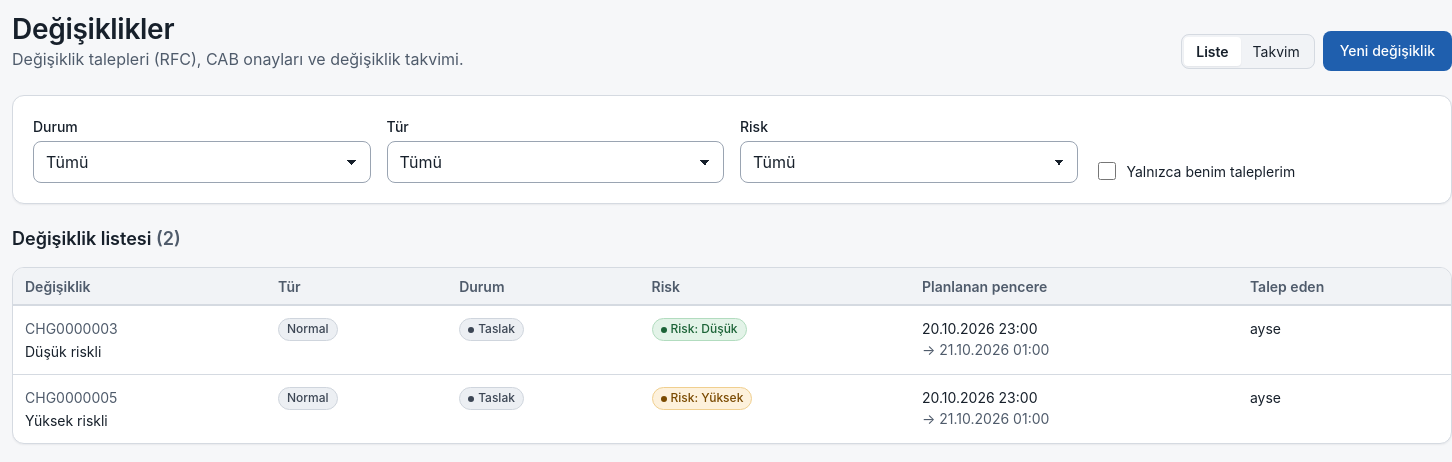
ChangeListPage — liste › durum, tür ve "benim taleplerim" sunucuya; risk istemcide süzülür
Expected: the text "Yüksek riskli" is shown, x1=25 y1=412 x2=108 y2=428
Select "Zamanlandı" in the dropdown labelled "Durum" at (202, 162), box x1=33 y1=141 x2=370 y2=183
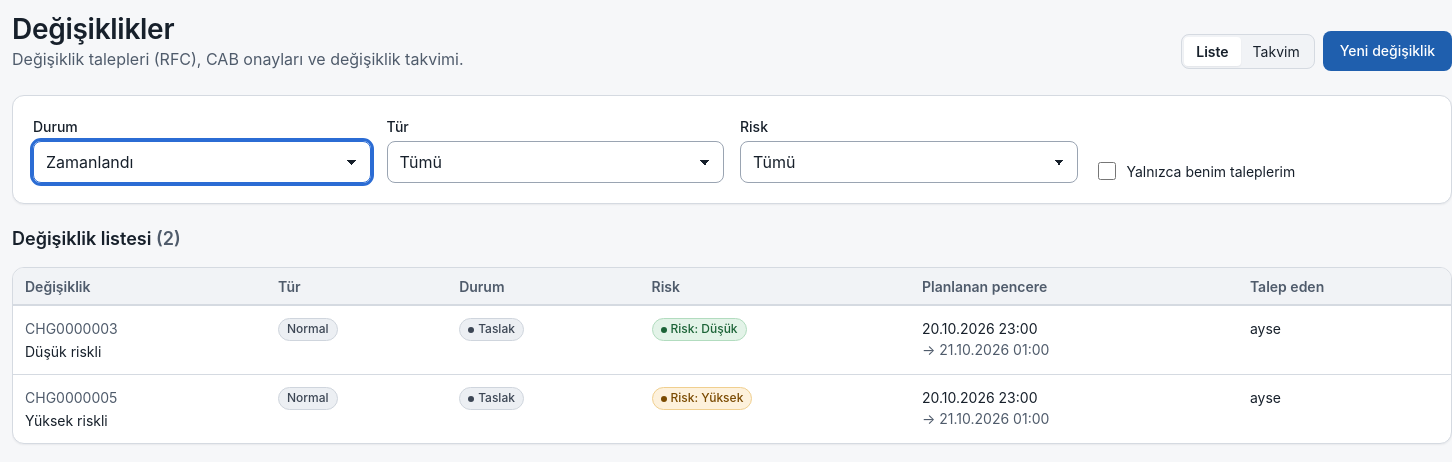
Select "Normal" in the dropdown labelled "Tür" at (555, 162), box x1=386 y1=141 x2=724 y2=183
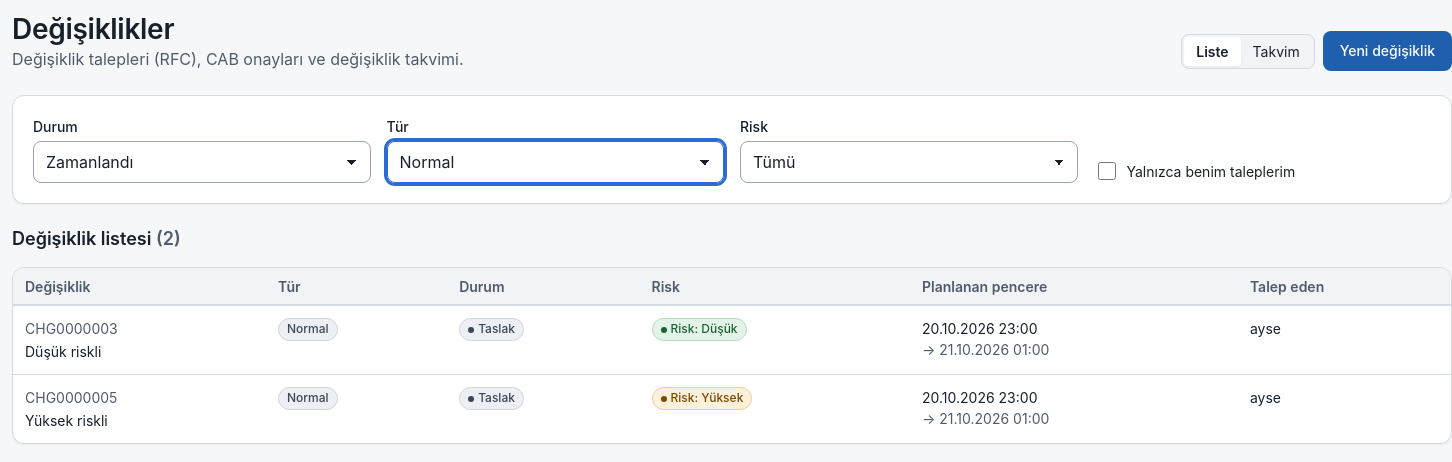
Click the checkbox labelled "Yalnızca benim taleplerim".
click(1106, 171)  # box x1=1098 y1=162 x2=1116 y2=180
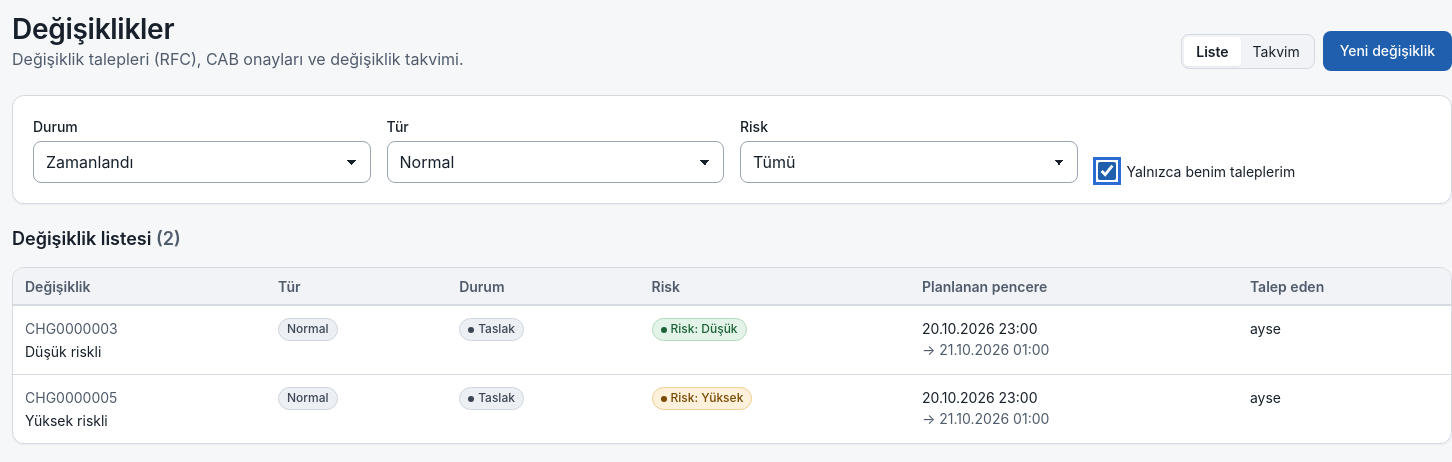
Select "Yüksek" in the dropdown labelled "Risk" at (909, 162), box x1=740 y1=141 x2=1078 y2=183
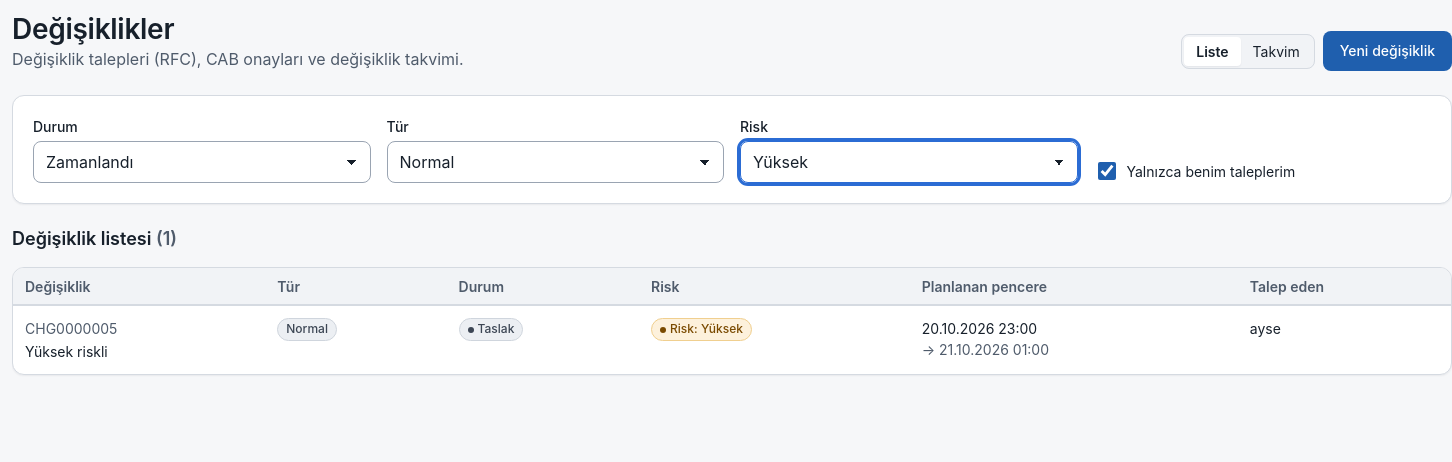
Expected: the number of rows with test id "change-row" is 1, x1=13 y1=305 x2=1451 y2=374
Expected: the link "Düşük riskli" is gone
